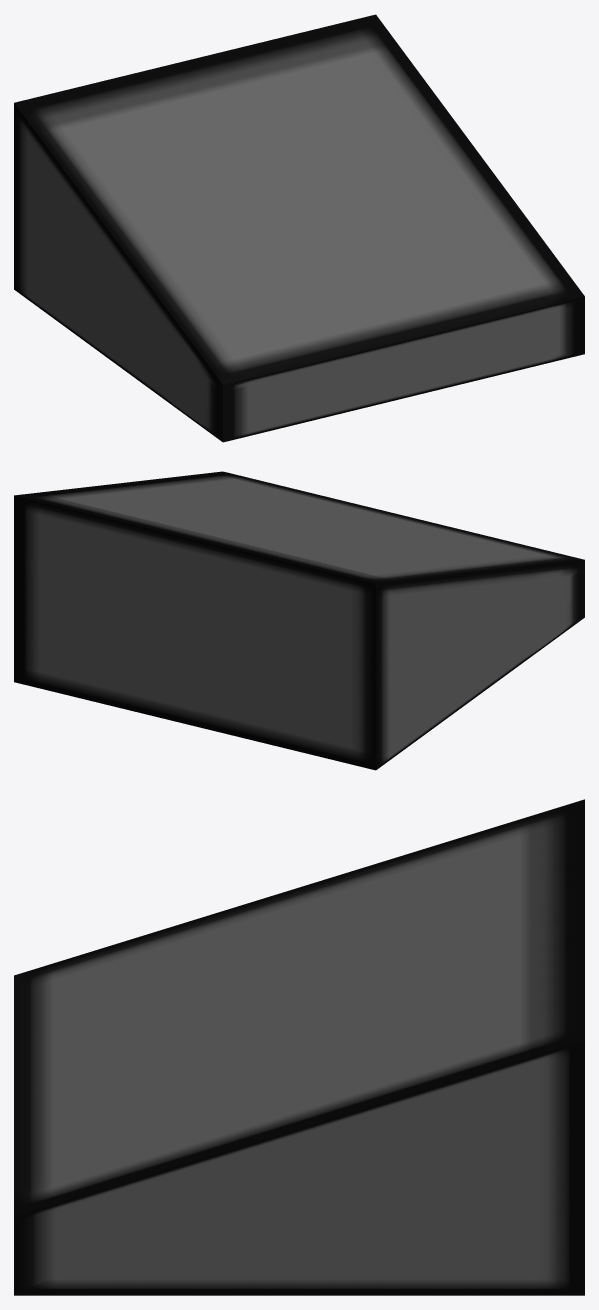
Rendered from iso_halframpbox.fbx.
3 renders of one model, top to bottom at view 1: azimuth 30°, elevation 25°; view 2: azimuth 150°, elevation 25°; view 3: azimuth 270°, elevation 25°, orthographic. The views are drawn at different scales.
Parts seen in each view (by area): view 1: pCube8; view 2: pCube8; view 3: pCube8.
Boxes of the visible parts, x1,y1,x2,y2 form: pCube8: [14, 14, 584, 442]; pCube8: [14, 471, 584, 770]; pCube8: [14, 799, 584, 1295].
Bounding box in the file's own units: 1 × 0.4929 × 1.
1 material, 1 textured.
